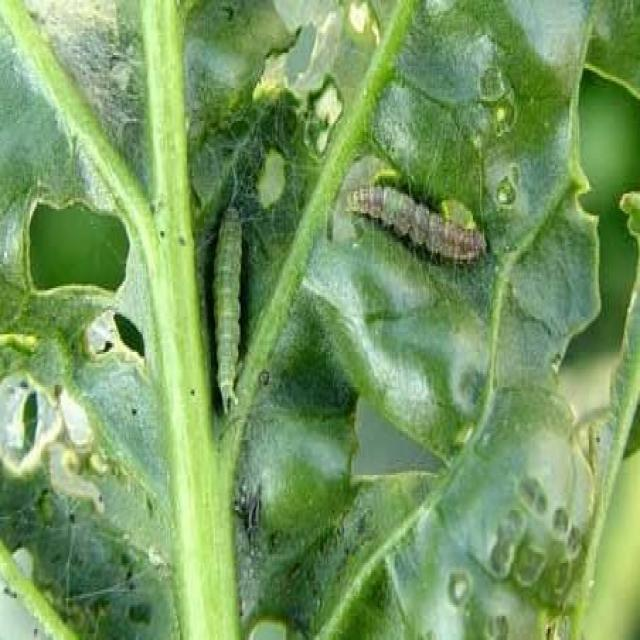armyworm: (202, 192, 262, 434), (349, 172, 489, 273)
